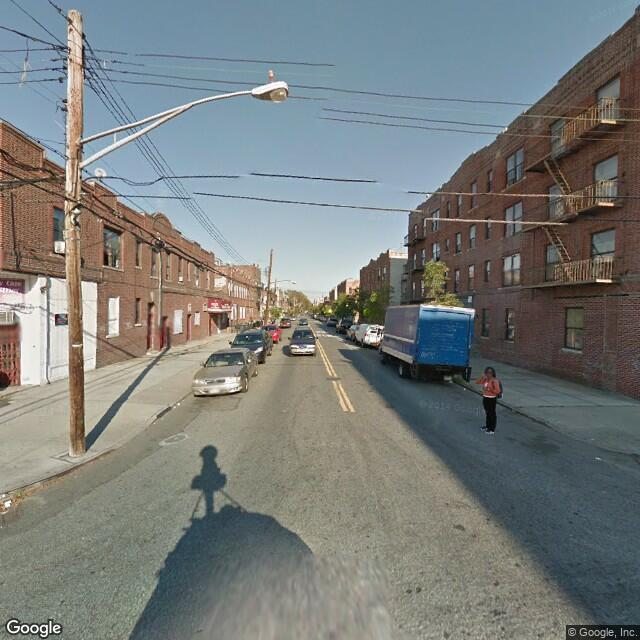litter: (4, 500, 13, 508), (595, 454, 602, 458)
